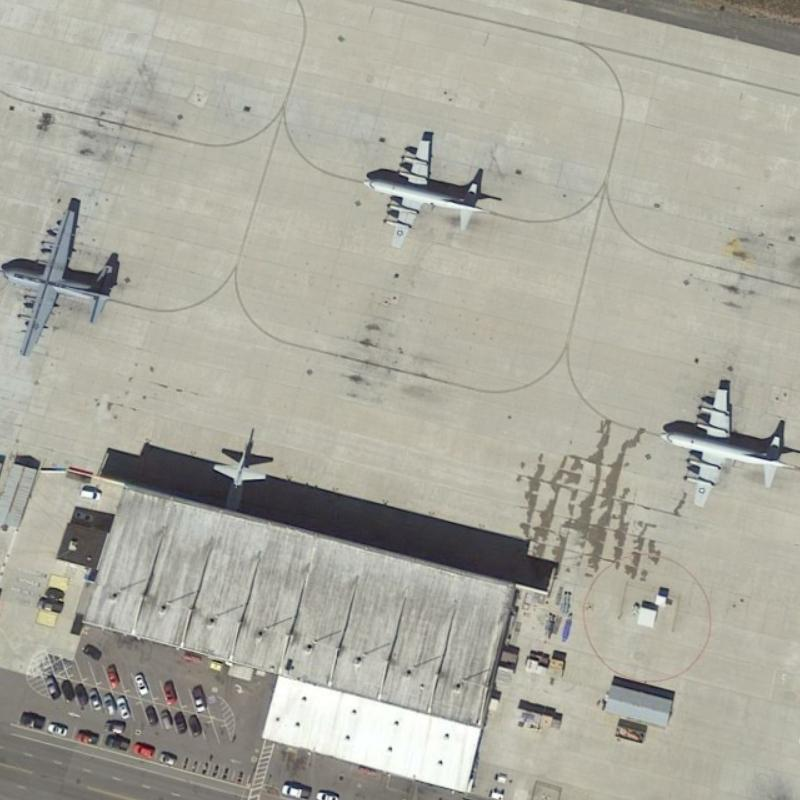A2: (0, 204, 114, 358)
A9: (656, 379, 799, 511), (361, 131, 488, 251)
